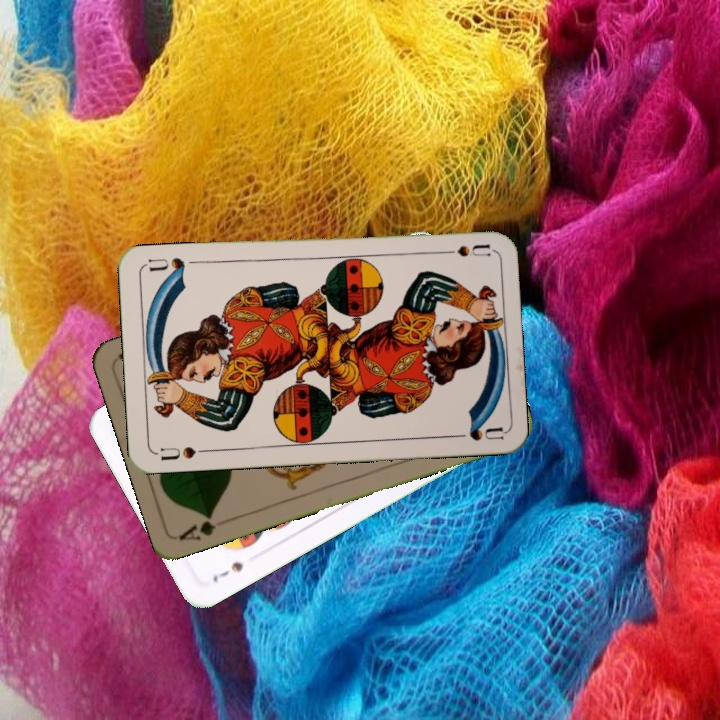GA: (175, 510, 218, 543)
S7: (208, 557, 246, 585)
SU: (432, 240, 492, 260), (153, 443, 212, 463)
